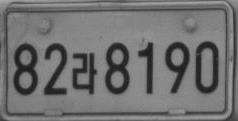0: (195, 40, 219, 94)
1: (135, 41, 159, 94)
2: (43, 42, 68, 95)
8: (104, 41, 131, 95), (12, 42, 39, 95)
9: (164, 40, 191, 94)
라: (71, 52, 98, 95)
